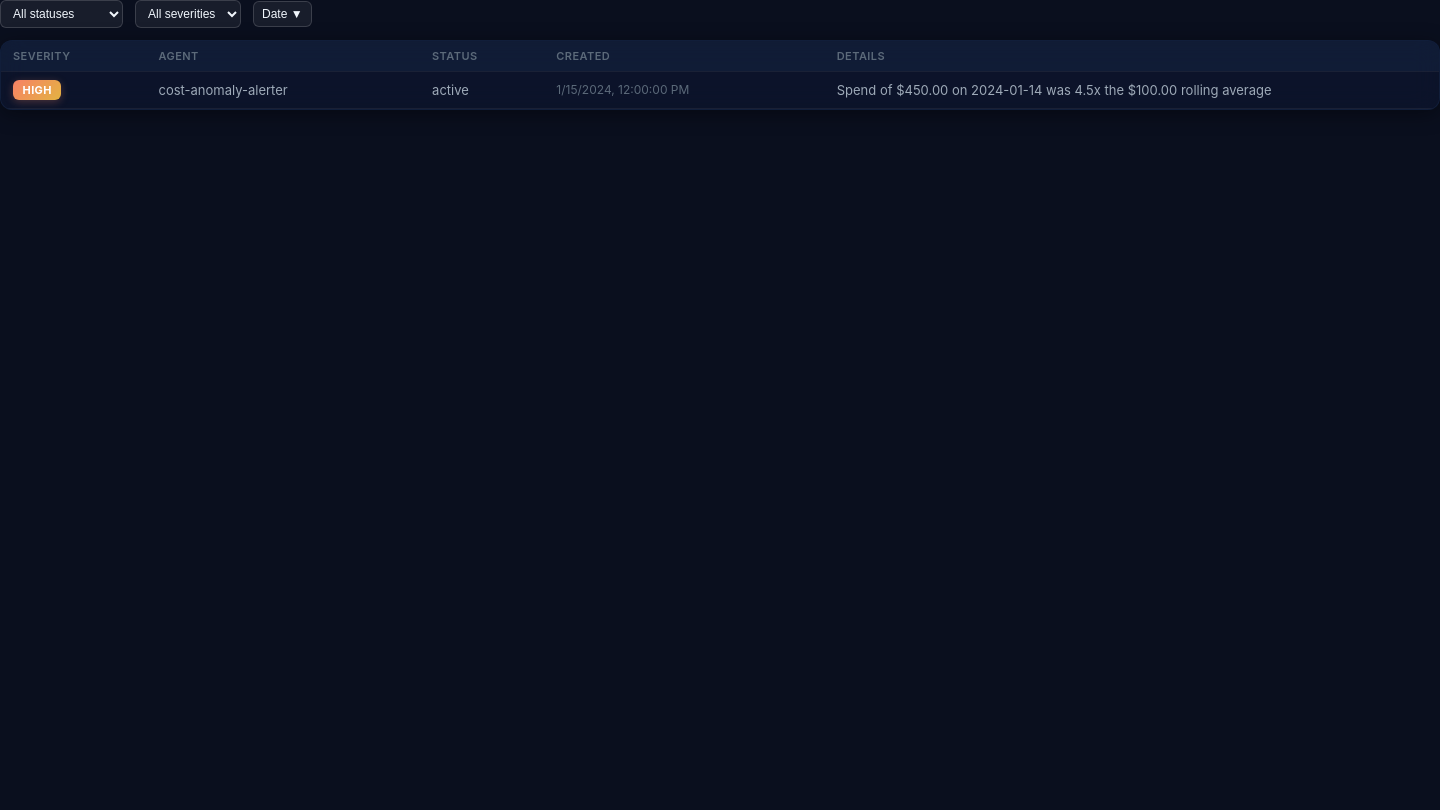
Test: FindingsTable › clicking a non-guardrail row still opens the generic Finding Details modal
The image size is (1440, 810).
What coordinates should you click on to do the following:
click the text "cost-anomaly-alerter"
I would click on:
 (283, 90)
Its box is 146,71 -> 420,108.
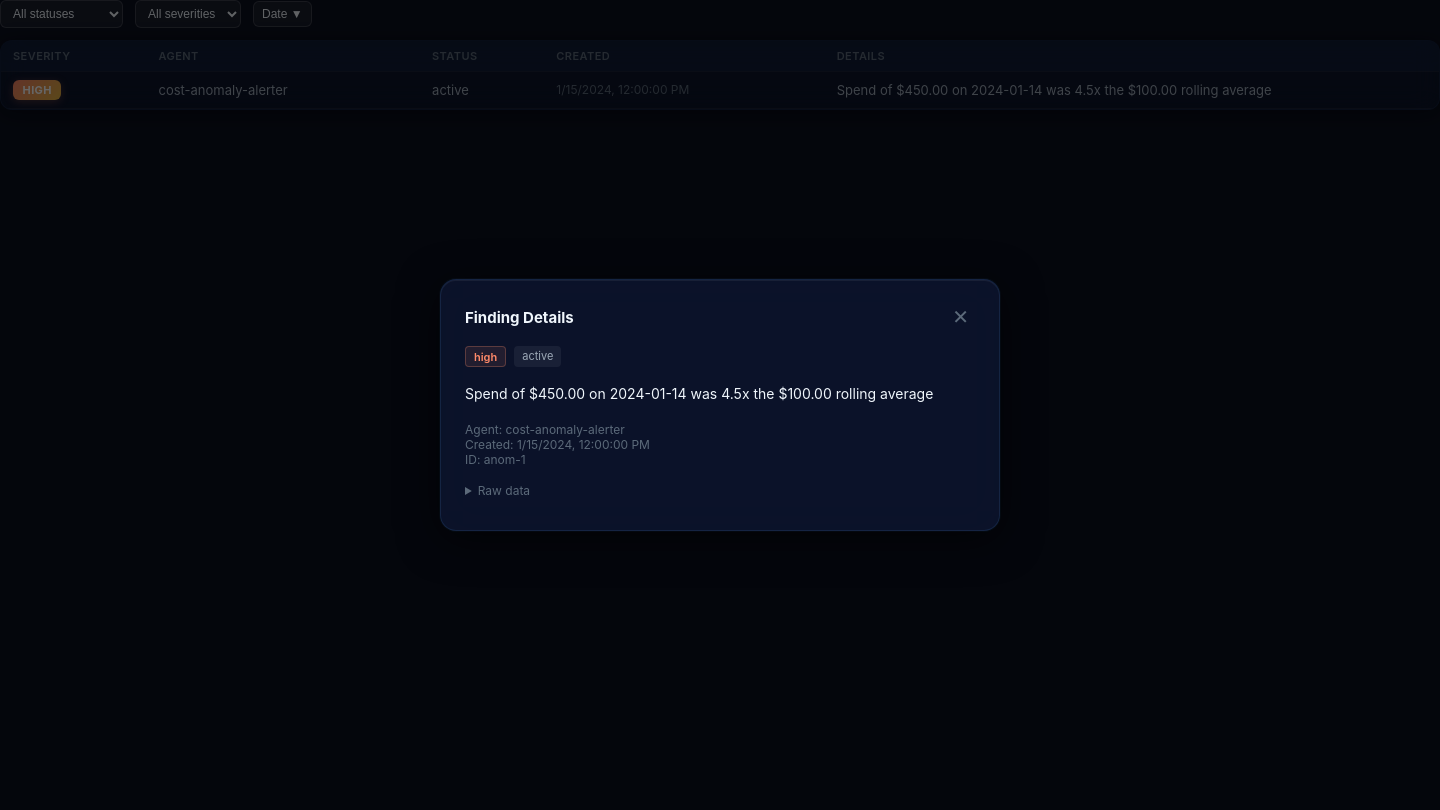
Expected: the heading "Finding Details" is shown, 465,308 -> 574,327
